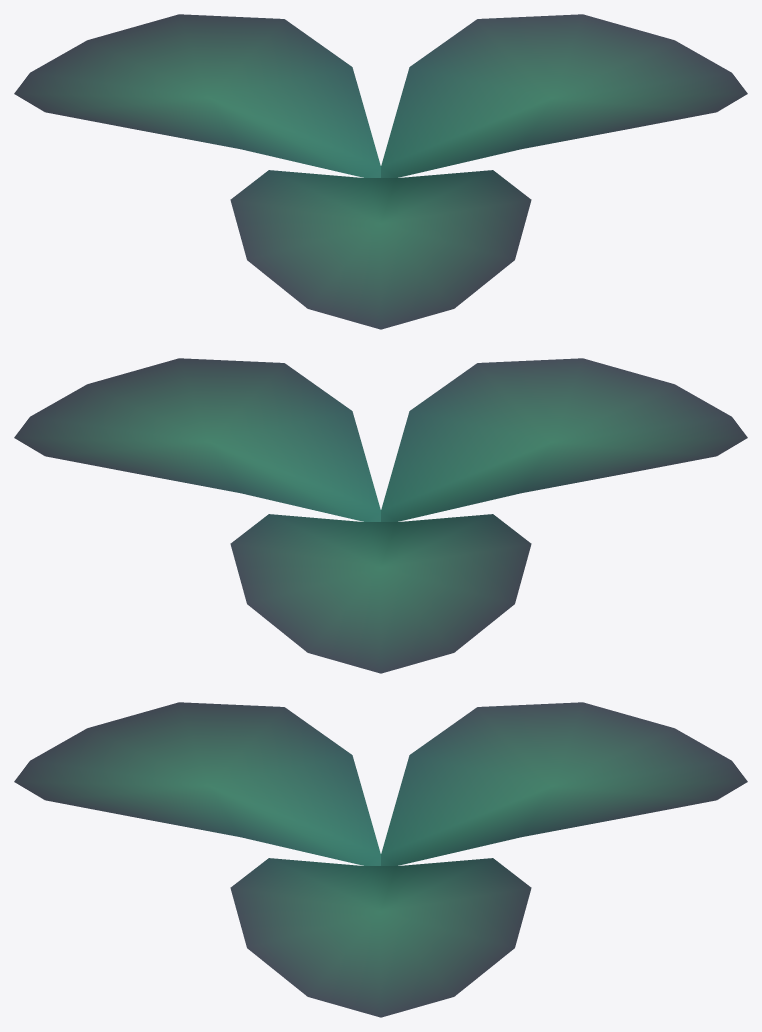
Rendered from S_Clover_Purple.fbx.
3 views of the same model, one above another, from view 1: azimuth 30°, elevation 25°; view 2: azimuth 150°, elevation 25°; view 3: azimuth 270°, elevation 25° (orthographic).
Visible parts, largest first — view 1: Clover_Purple_GEO; view 2: Clover_Purple_GEO; view 3: Clover_Purple_GEO.
Part boxes in pixels (bbox=[...]): Clover_Purple_GEO: bbox=[14, 14, 747, 329]; Clover_Purple_GEO: bbox=[14, 358, 747, 673]; Clover_Purple_GEO: bbox=[14, 702, 747, 1017].
Size of the model in its own units: 2.67 by 0.8962 by 2.9.
